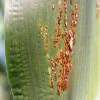Corn rust leaf: (3, 0, 99, 99)
